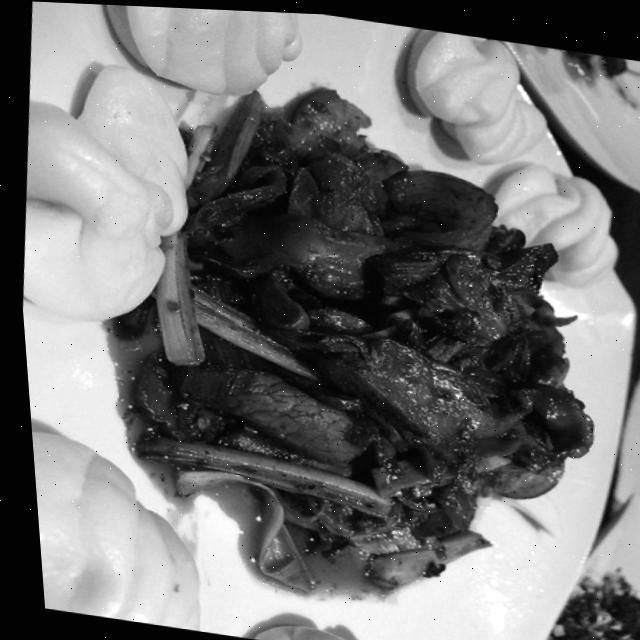猪肉菜式: (12, 8, 640, 640)
